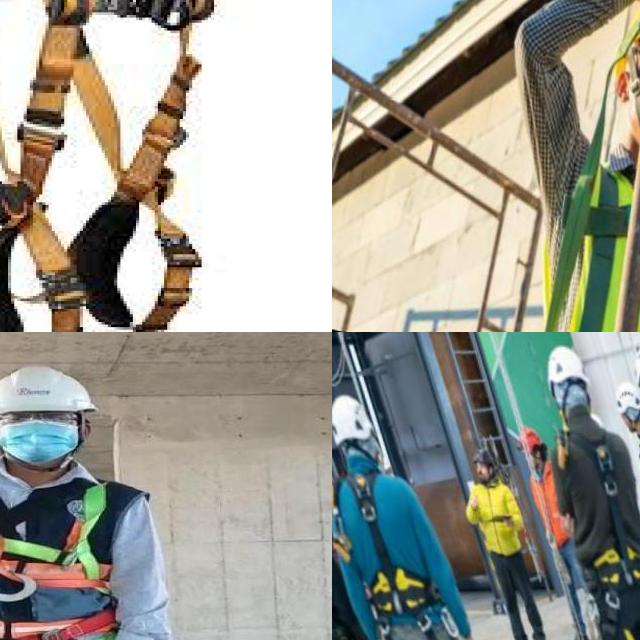Harness: (0, 0, 216, 332), (545, 81, 633, 332), (350, 476, 440, 616)
No_Ear-Protection: (77, 410, 94, 443)
face_nomask: (3, 421, 79, 466)
person: (0, 364, 172, 640)
